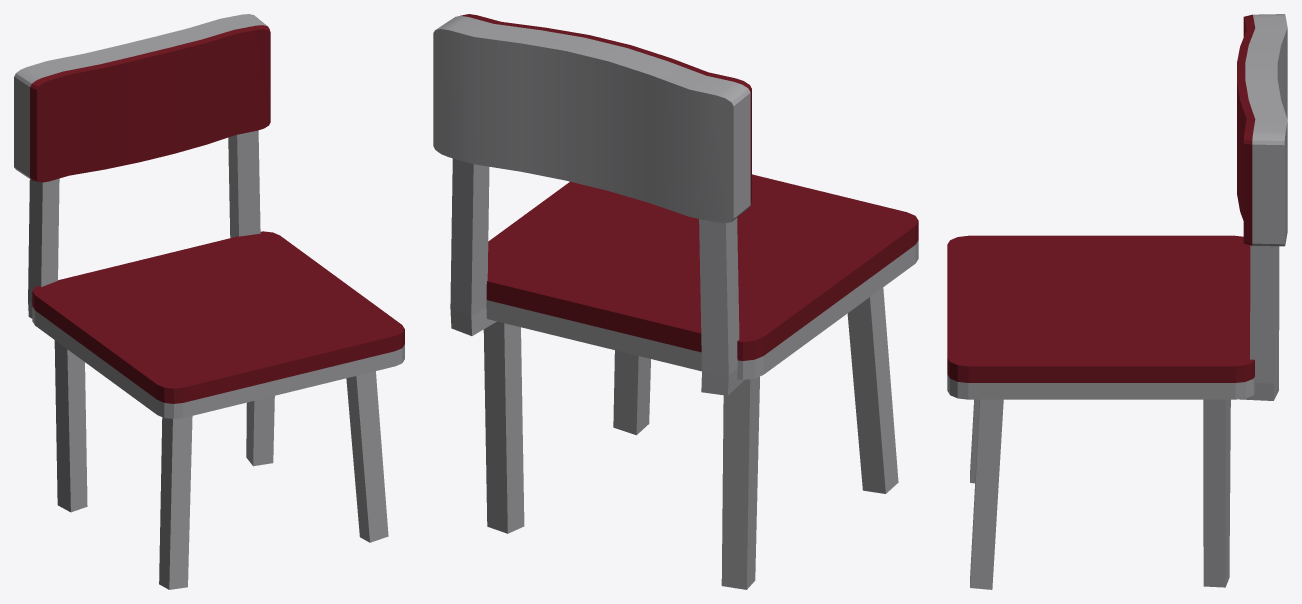
Rendered from red_chair.glb.
3 views of the same model, side by side, from view 1: azimuth 30°, elevation 25°; view 2: azimuth 150°, elevation 25°; view 3: azimuth 270°, elevation 25° (orthographic). The views are drawn at different scales.
Parts seen in each view (by area): view 1: Cube.005; view 2: Cube.005; view 3: Cube.005.
Boxes of the visible parts, left/top/right/bottom form: Cube.005: left=14, top=14, right=404, bottom=589; Cube.005: left=433, top=14, right=918, bottom=589; Cube.005: left=947, top=14, right=1287, bottom=589.
Bounding box in the file's own units: 0.7088 × 1.17 × 0.7805.
